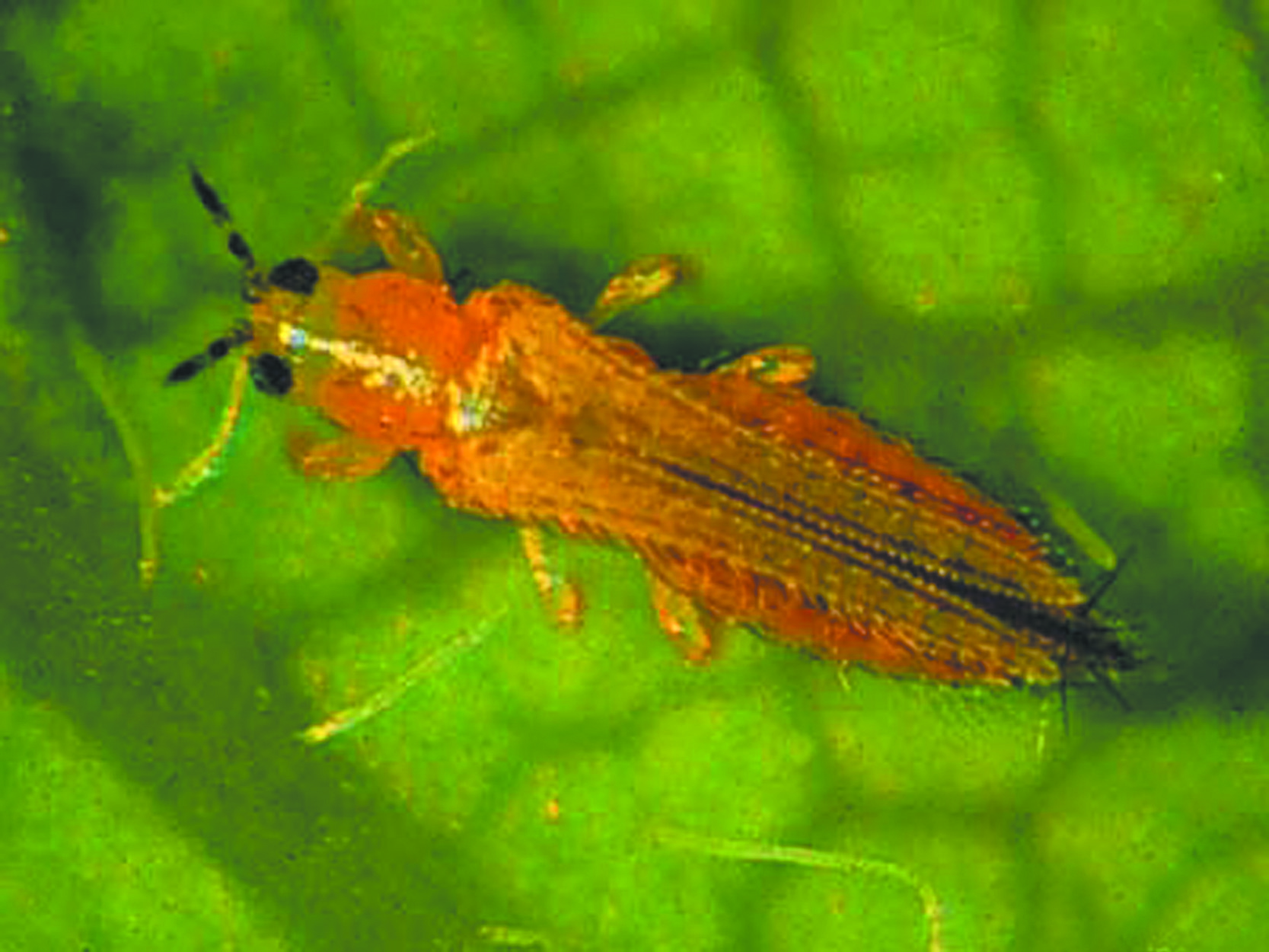Thripidae: (156, 140, 1153, 725)
